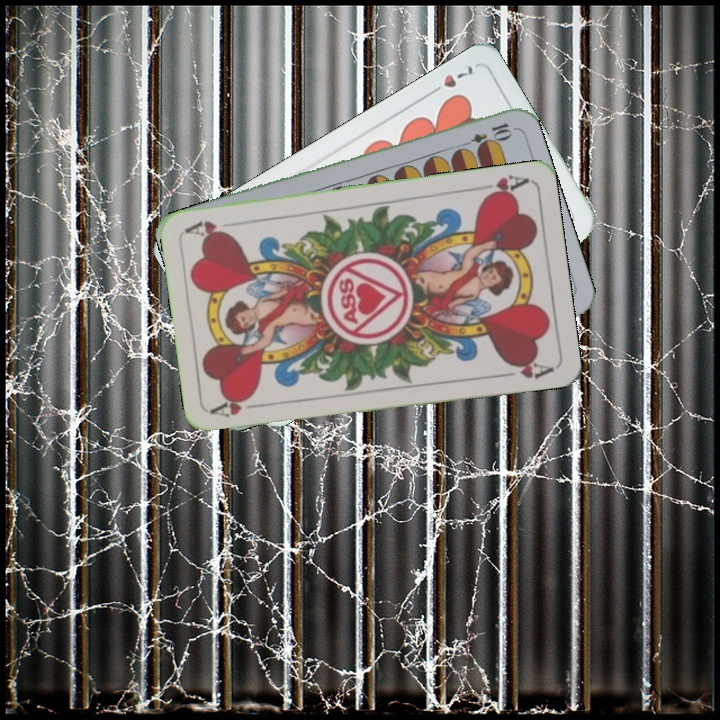E10: (456, 118, 515, 152)
H7: (424, 61, 476, 99)
HA: (471, 171, 530, 202), (208, 393, 268, 420)
